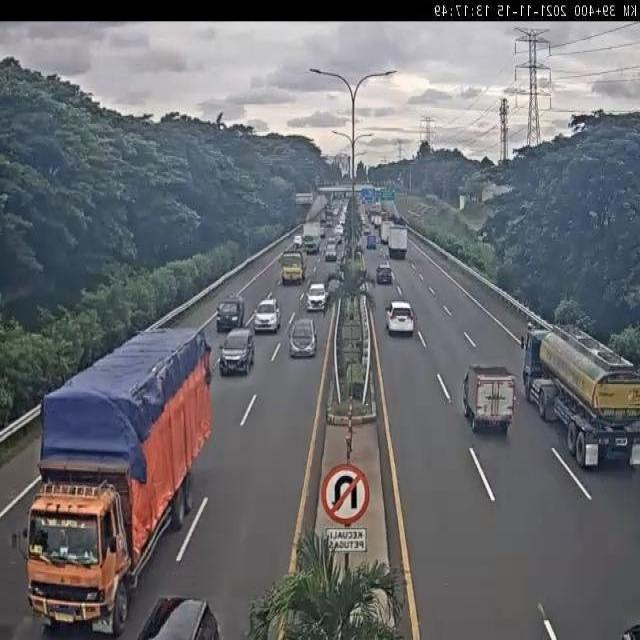Car: (139, 594, 230, 640), (216, 325, 259, 377), (381, 292, 423, 341), (216, 293, 247, 333), (288, 317, 318, 358), (253, 298, 281, 334), (306, 283, 330, 313), (376, 261, 393, 284), (324, 242, 338, 262), (293, 235, 303, 249)
Truck: (17, 334, 211, 637), (526, 341, 639, 480), (456, 368, 526, 436), (383, 226, 411, 260), (279, 248, 305, 284), (302, 220, 322, 257)
